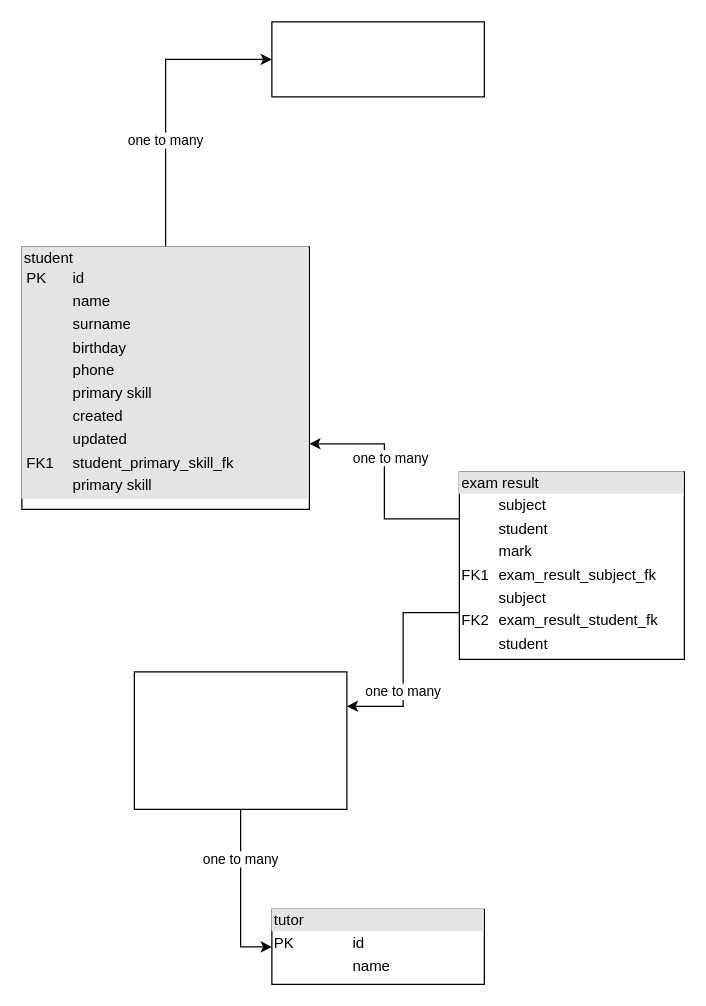
This 706x1006 diagram has some shape labels left out. The shapes that lost their labels are listed below. From the top down, each one's centre as x and y in pixels, then its label:
At (x=377, y=59): "primary skill PK id name".
At (x=240, y=740): "subject PK id name tutor FK1 subject_tutor_fk tutor".
